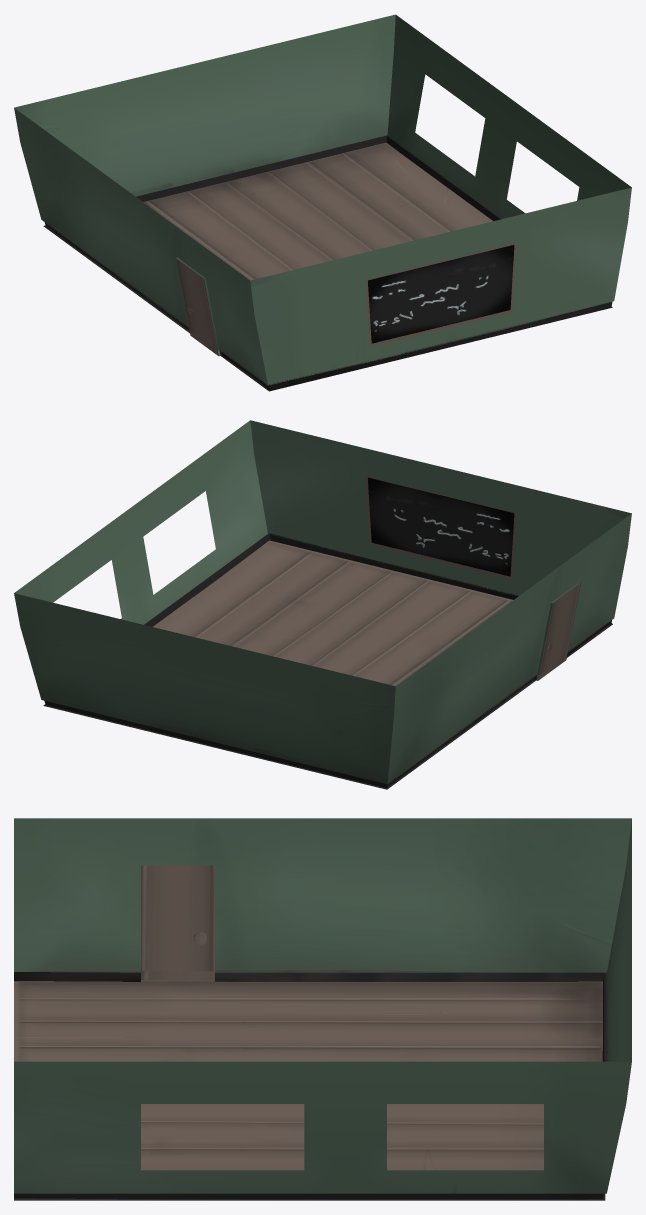
Rendered from Room_Menu_GEO.fbx.
The picture shows the model from 3 angles, top to bottom: view 1: azimuth 30°, elevation 25°; view 2: azimuth 150°, elevation 25°; view 3: azimuth 270°, elevation 25°; orthographic projection. The views are drawn at different scales.
Visible parts, largest first — view 1: Cube.005; view 2: Cube.005; view 3: Cube.005.
Part boxes in pixels (left/top/right/bottom): Cube.005: left=14, top=14, right=631, bottom=391; Cube.005: left=14, top=420, right=631, bottom=789; Cube.005: left=14, top=818, right=631, bottom=1200.
Size of the model in its own units: 1399 by 1500 by 405.
Materials: 2 (2 with a texture image).
